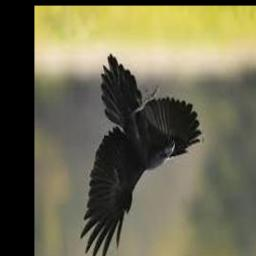Crow: (81, 54, 204, 256)
